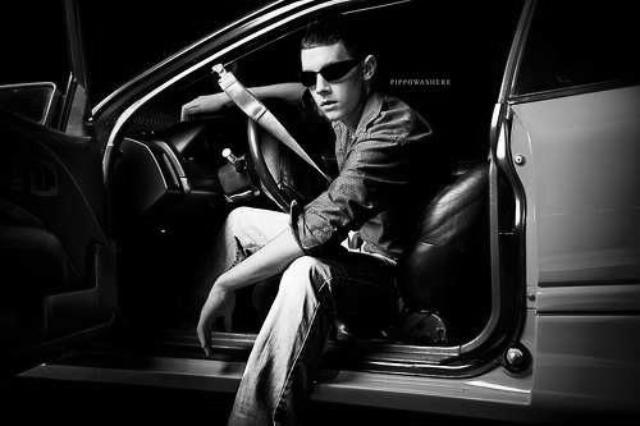Seatbelt: (208, 50, 342, 188)
